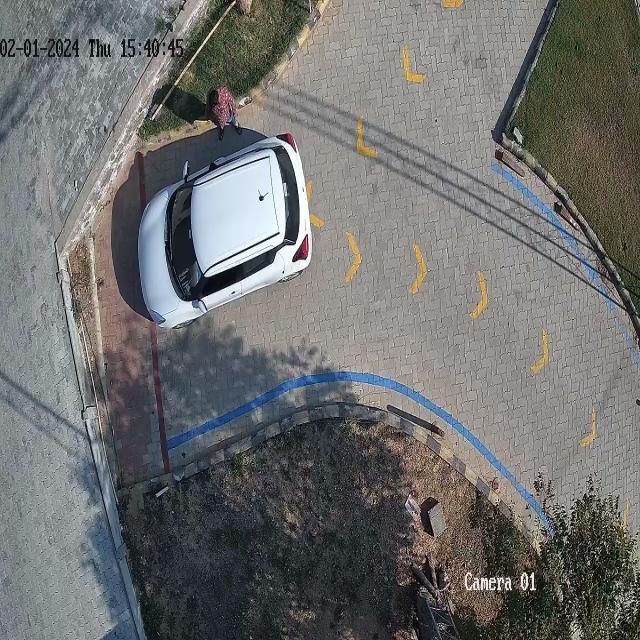car: (137, 134, 314, 330)
